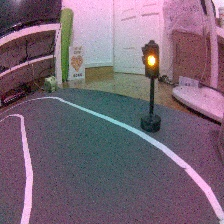amber: (139, 39, 165, 134)
